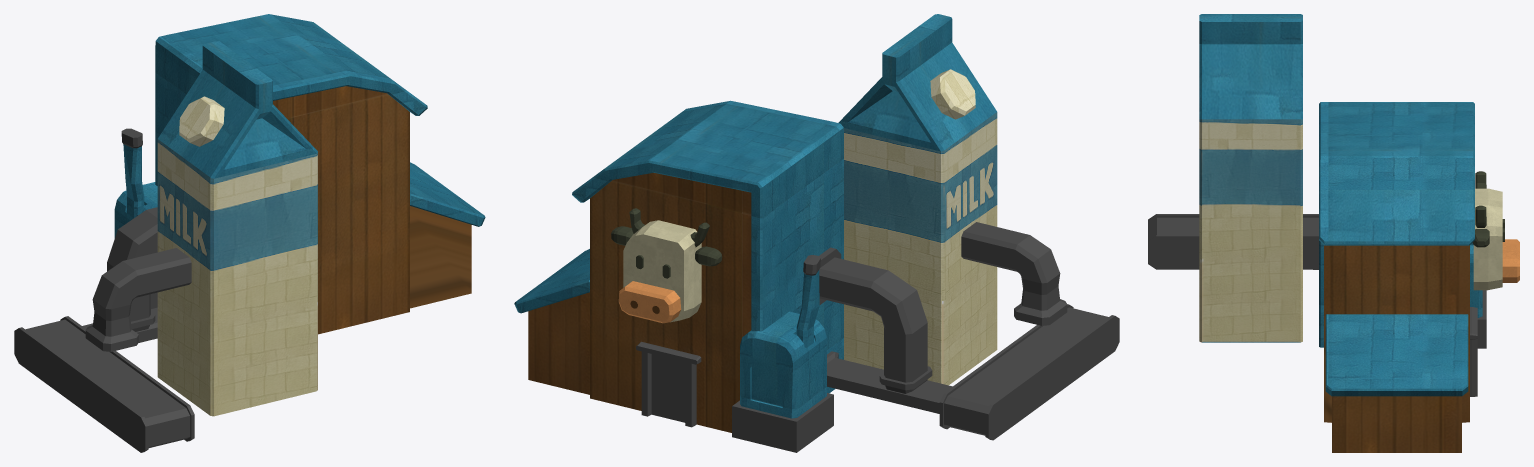
The model's file is MilkFactory.fbx.
3 renders of one model, left to right at view 1: azimuth 30°, elevation 25°; view 2: azimuth 150°, elevation 25°; view 3: azimuth 270°, elevation 25°, orthographic. The views are drawn at different scales.
Visible parts, largest first — view 1: MilkMachine; view 2: MilkMachine; view 3: MilkMachine.
Part boxes in pixels (<box>): MilkMachine: <box>14,14,485,452</box>; MilkMachine: <box>514,14,1119,452</box>; MilkMachine: <box>1148,14,1519,452</box>.
Size of the model in its own units: 466 by 335 by 366.
